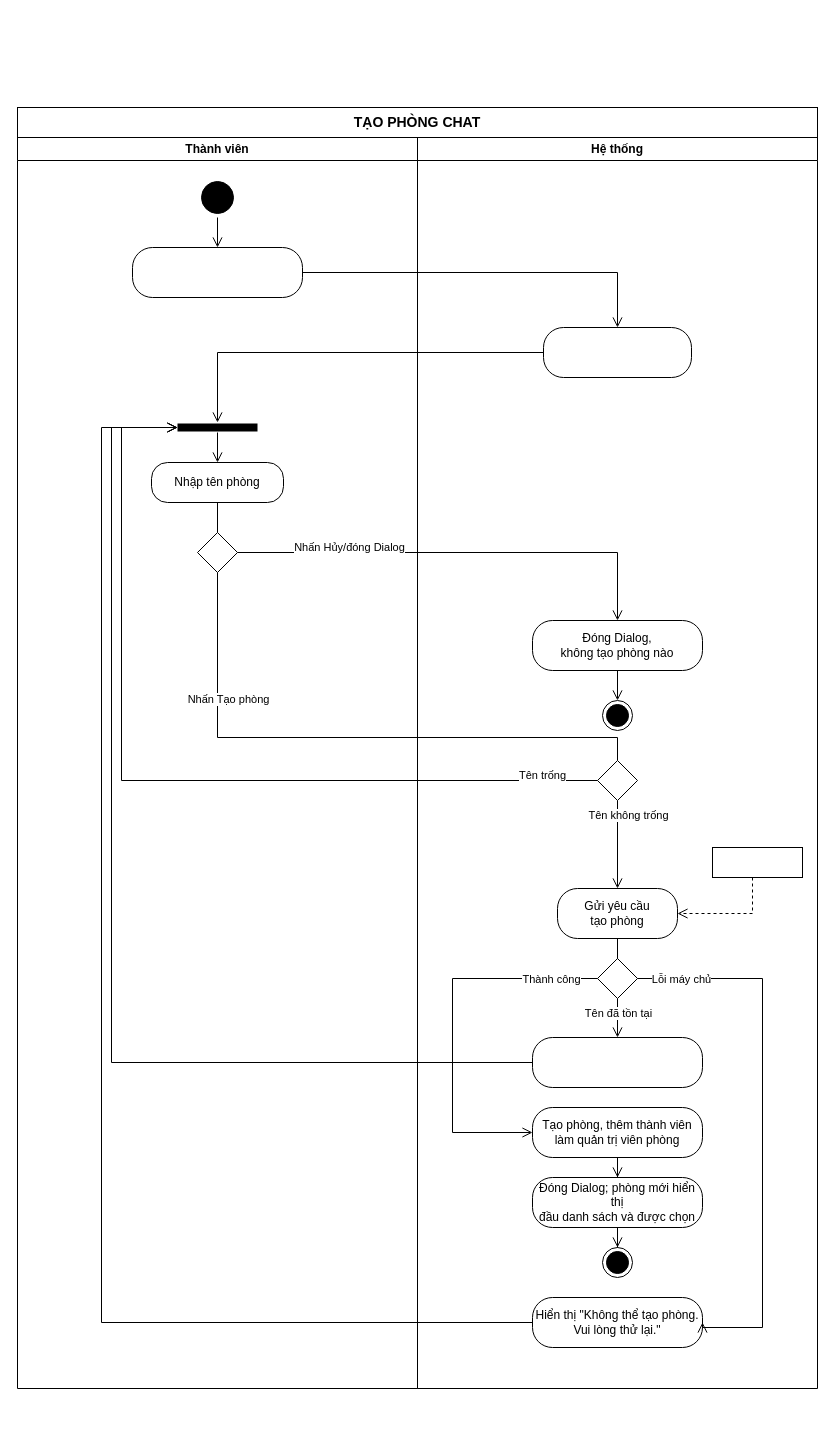
This 835x1435 diagram has some shape labels left out. Here are the shapes that lost their labels. From the top down, the centre of each, then its label:
the point at 217,272: Nhấn nút "+" cạnh tiêu đề "Phòng chat"
the point at 617,352: Mở Dialog "Tạo phòng chat"
the point at 757,862: ChatRoom
the point at 617,1062: Hiển thị "Tên phòng chat đã tồn tại. Vui lòng chọn tên khác."
